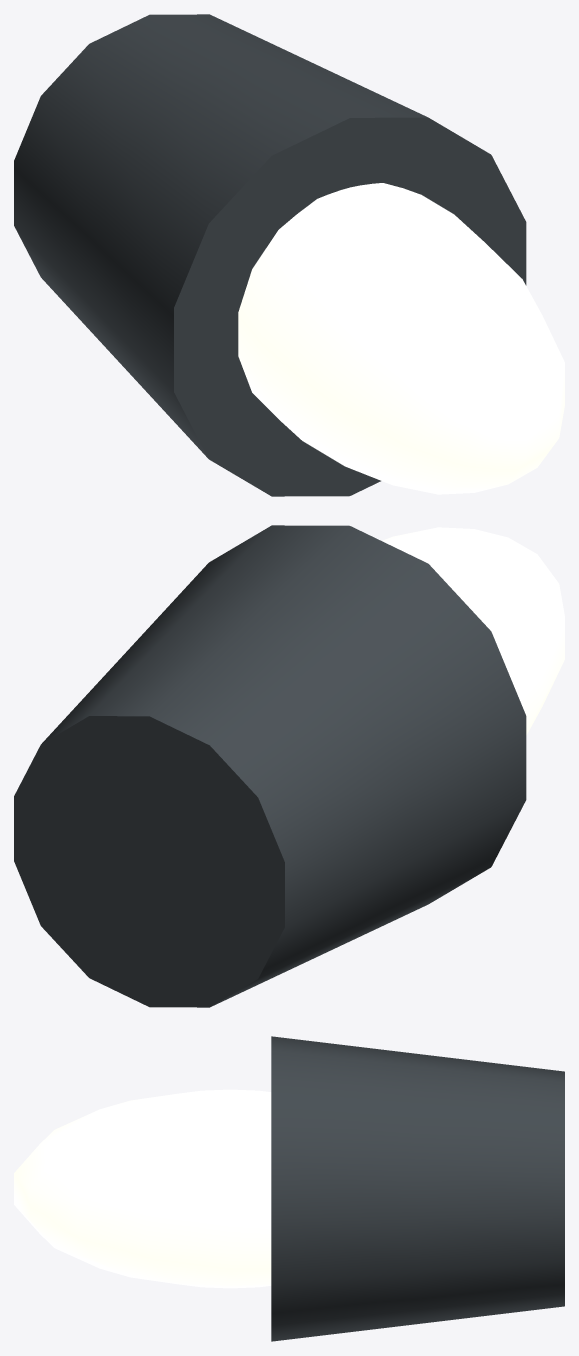
File: boost.glb
3 views of the same model, one above another, from view 1: azimuth 30°, elevation 25°; view 2: azimuth 150°, elevation 25°; view 3: azimuth 270°, elevation 25° (orthographic). The views are drawn at different scales.
Visible parts, largest first — view 1: _MeshInstance3D_197, Flame; view 2: _MeshInstance3D_197, Flame; view 3: _MeshInstance3D_197, Flame.
Part boxes in pixels (left/top/right/bottom): _MeshInstance3D_197: left=14, top=14, right=526, bottom=496; Flame: left=238, top=183, right=564, bottom=494; _MeshInstance3D_197: left=14, top=525, right=526, bottom=1007; Flame: left=382, top=527, right=564, bottom=735; _MeshInstance3D_197: left=271, top=1036, right=564, bottom=1341; Flame: left=14, top=1089, right=271, bottom=1288.
Size of the model in its own units: 0.507 by 0.52 by 0.9383.
